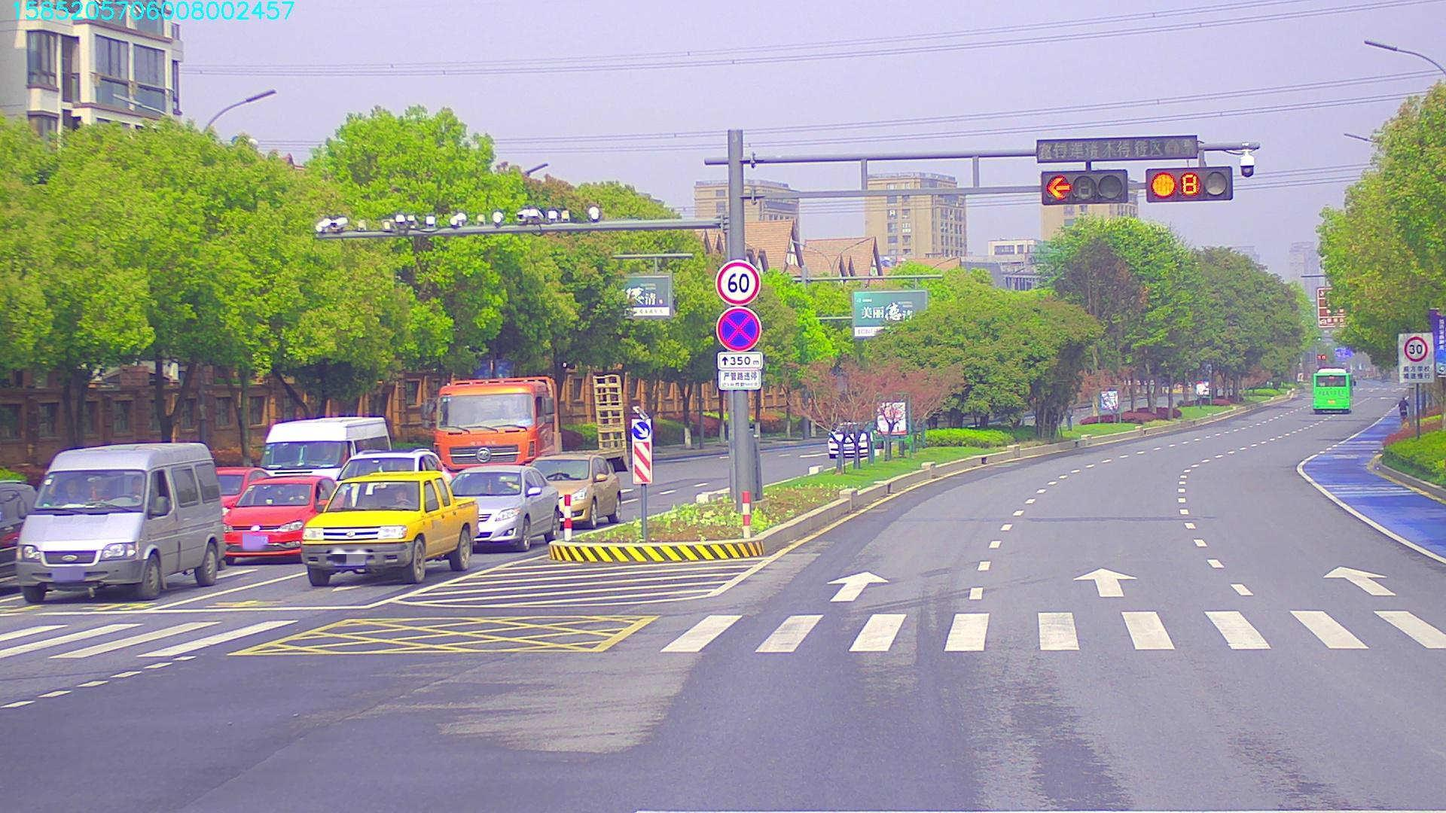red: (1146, 167, 1238, 206), (1048, 175, 1124, 202)
